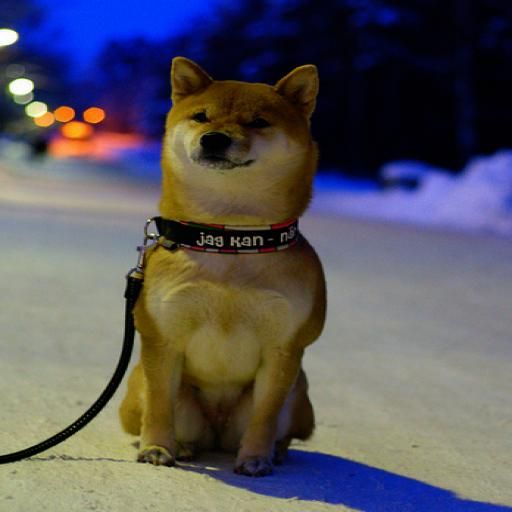dog_face: (156, 54, 331, 181)
